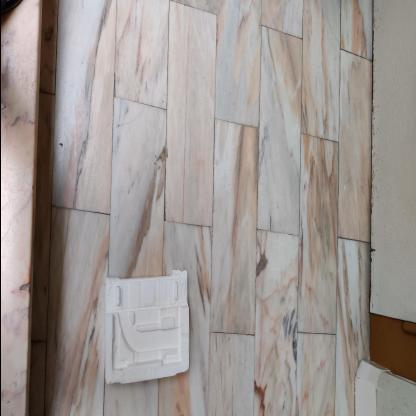diger: (103, 268, 191, 391)
